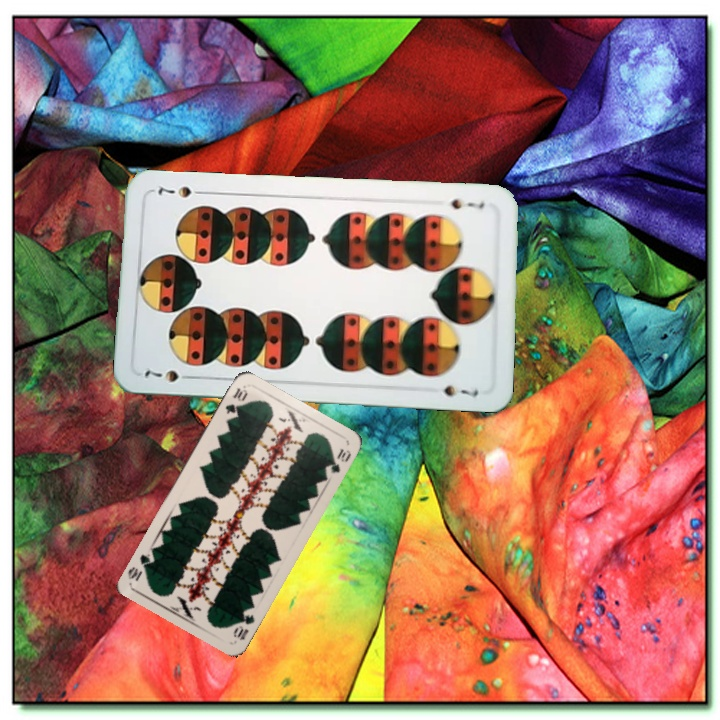G10: (221, 384, 250, 417), (229, 610, 257, 643)
S7: (141, 366, 197, 385), (447, 195, 487, 212)
